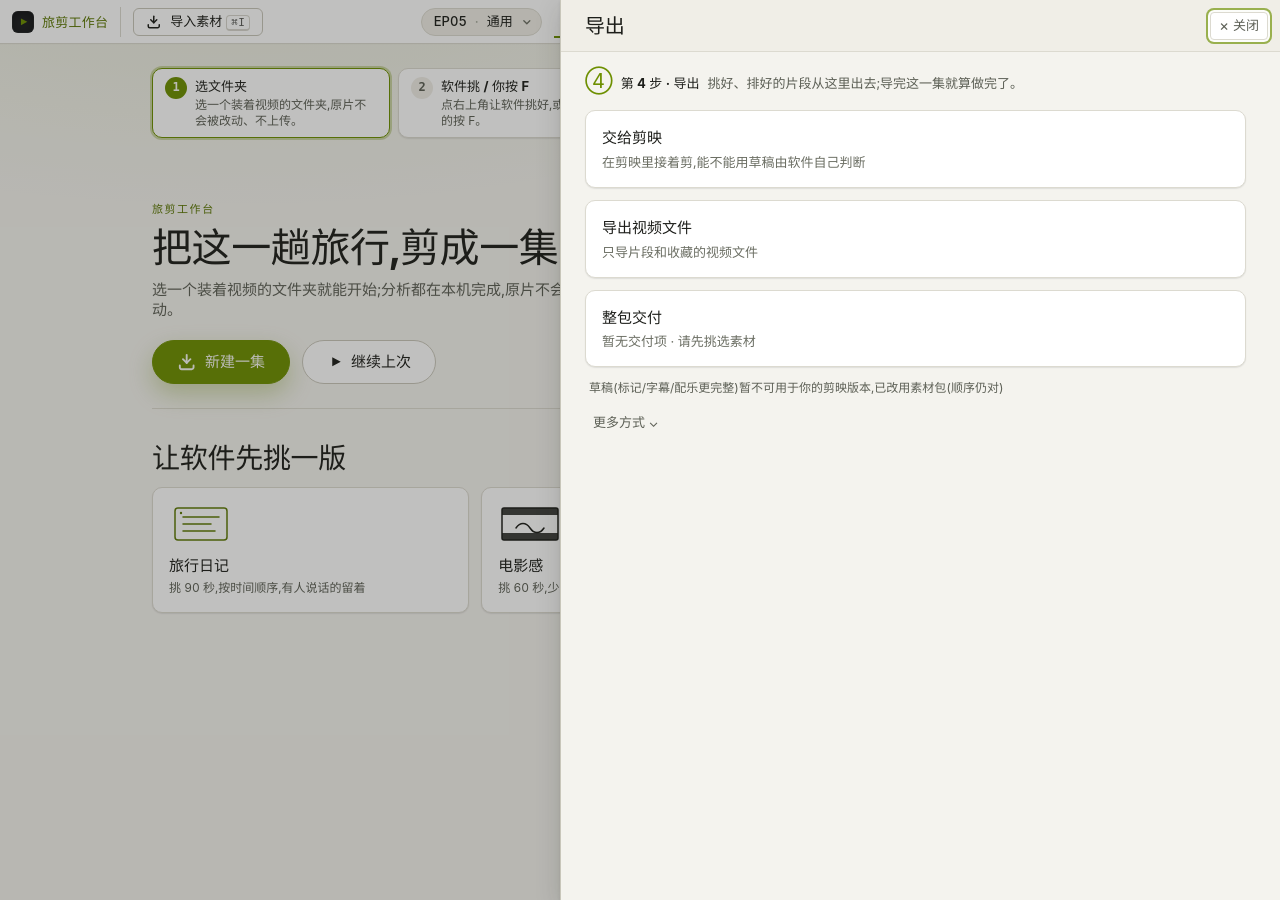
it: 交付抽屉 · 快速导出(R11 车道 E) › 还没有片段:空态一句话说清现在怎么办,主按钮禁用
Step 1. Click the button "更多方式 ⌄" → (626, 422), box [585,409,667,435]
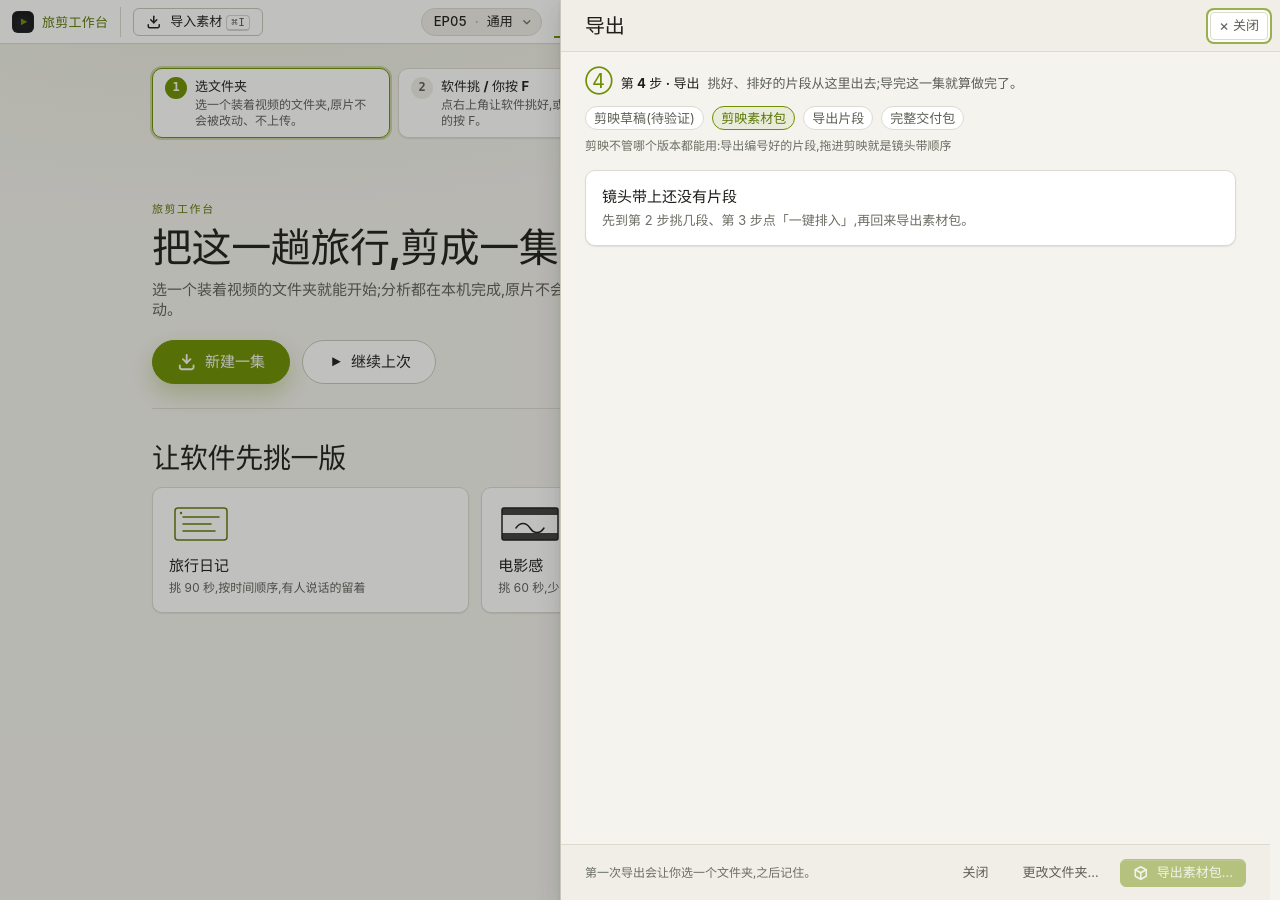
Step 2. Click the button "导出片段" → (838, 118), box [803,106,873,130]
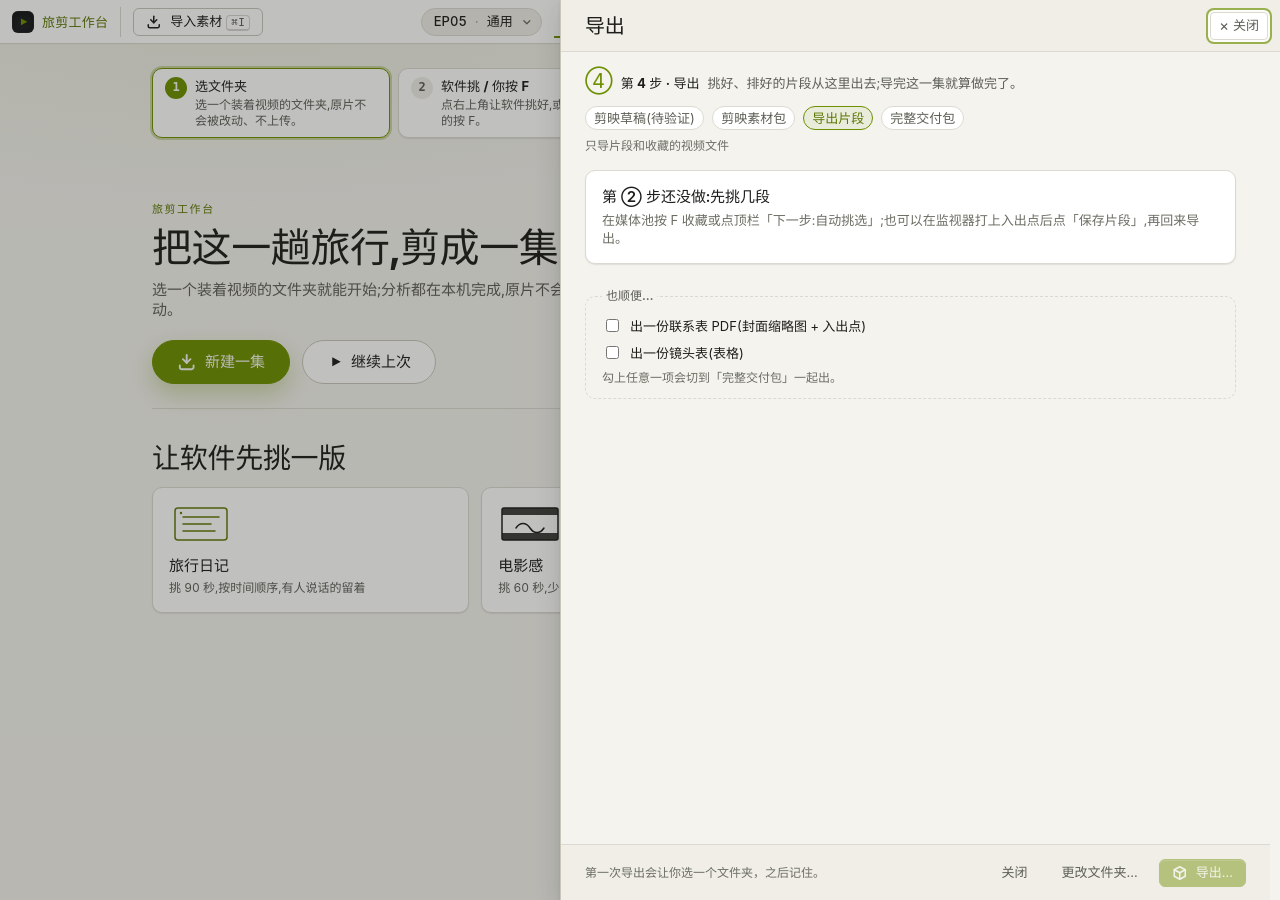
Expected: the button "导出…" is disabled, [1159,858,1246,886]
Expected: the text "第 ② 步还没做:先挑几段" is shown, [602,187,770,206]
